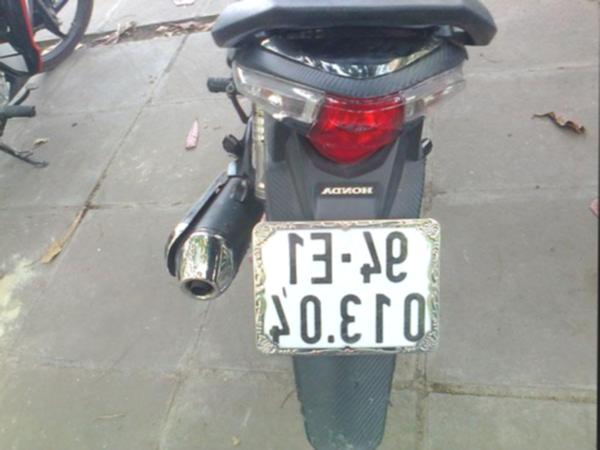License_Plate: (261, 225, 433, 347)
